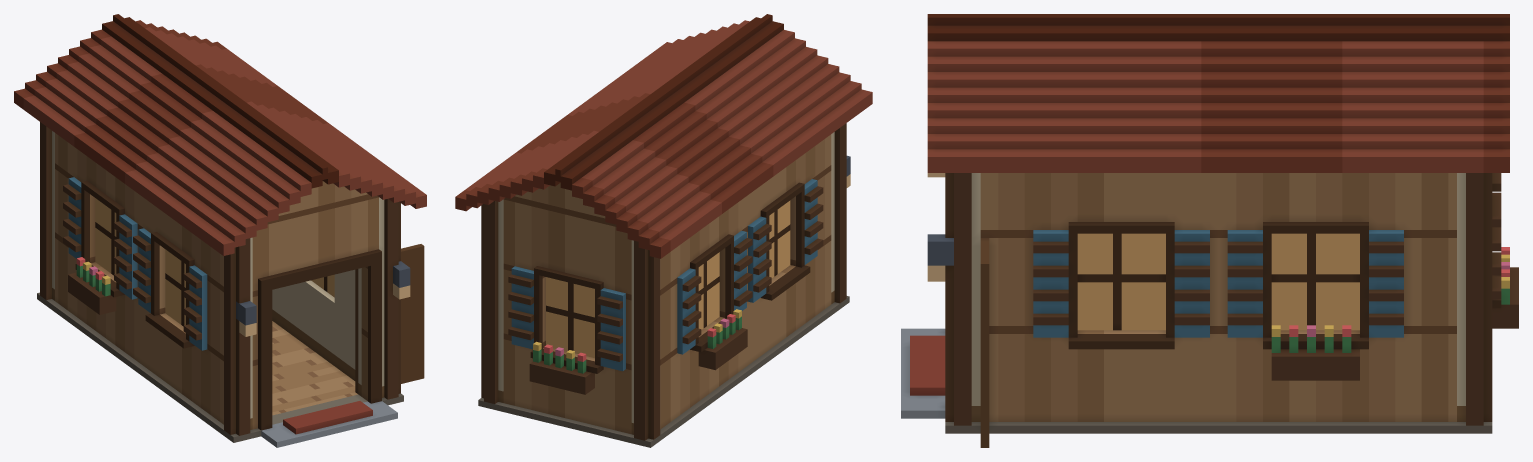
Rendered from control_e1_l2.glb.
The picture shows the model from 3 angles, left to right: view 1: azimuth 30°, elevation 25°; view 2: azimuth 150°, elevation 25°; view 3: azimuth 270°, elevation 25°; orthographic projection. The views are drawn at different scales.
Visible parts, largest first — view 1: CutRoof, Base, CutPZ, CutNX, CutPX, CutNZ; view 2: CutRoof, CutNZ, CutNX, Base, CutPZ; view 3: CutRoof, CutPX, Base, CutPZ, CutNZ.
Boxes of the visible parts, x1,y1,x2,y2 form: CutRoof: [14, 14, 426, 255]; Base: [37, 244, 424, 447]; CutPZ: [224, 197, 424, 383]; CutNX: [55, 133, 223, 372]; CutPX: [294, 269, 355, 329]; CutNZ: [40, 122, 54, 248]; CutRoof: [455, 14, 872, 258]; CutNZ: [481, 199, 660, 388]; CutNX: [660, 134, 831, 376]; Base: [478, 246, 849, 447]; CutPZ: [831, 123, 850, 251]; CutRoof: [927, 14, 1509, 172]; CutPX: [980, 173, 1456, 364]; Base: [901, 312, 1518, 447]; CutPZ: [927, 173, 989, 375]; CutNZ: [1457, 173, 1518, 353].
Size of the model in its own units: 4 by 4.5 by 7.
